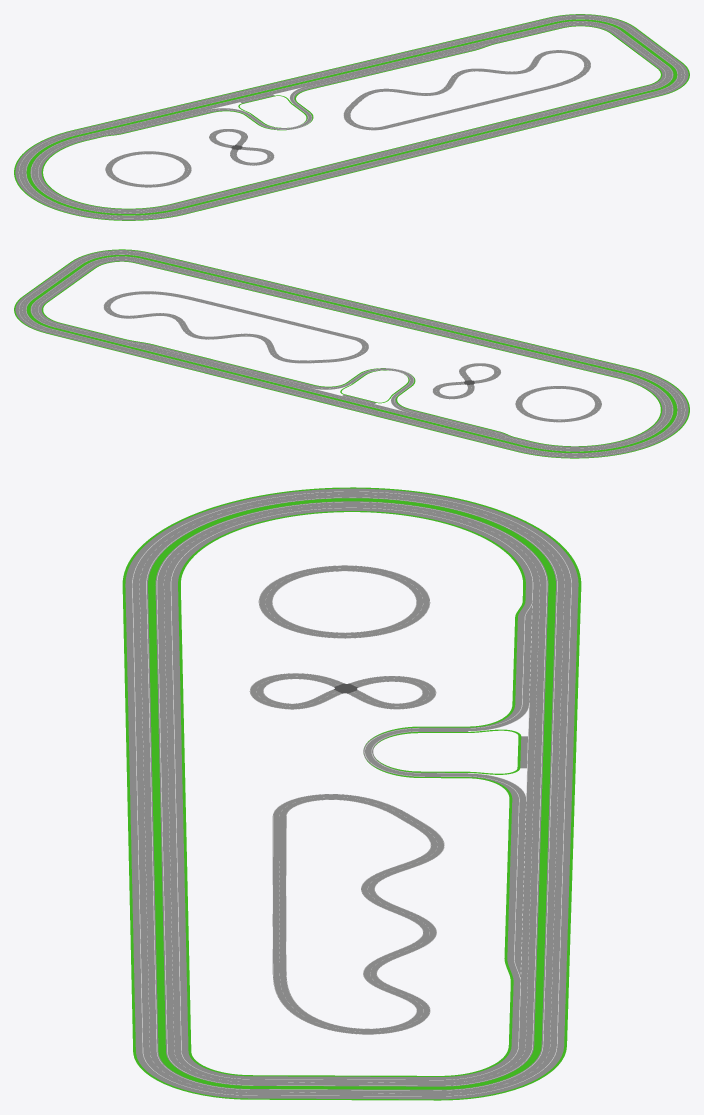
Rendered from HRI_custommap.fbx.
3 views of the same model, one above another, from view 1: azimuth 30°, elevation 25°; view 2: azimuth 150°, elevation 25°; view 3: azimuth 270°, elevation 25° (orthographic). The views are drawn at different scales.
Parts seen in each view (by area): view 1: road_straight_36, road_clothoid_37, road_straight_16, road_straight_8, road_straight_34, road_clothoid_33, road_straight_32, road_clothoid_35, road_clothoid_46, road_clothoid_39, road_clothoid_45, road_straight_10 (+2 smaller); view 2: road_straight_36, road_clothoid_37, road_straight_16, road_straight_8, road_straight_34, road_clothoid_33, road_straight_32, road_clothoid_35, road_clothoid_46, road_clothoid_39, road_clothoid_45, road_straight_15 (+2 smaller); view 3: road_straight_36, road_clothoid_37, road_straight_16, road_straight_8, road_straight_34, road_clothoid_33, road_straight_32, road_clothoid_35, road_clothoid_46, road_clothoid_39, road_clothoid_45, road_straight_10 (+7 smaller).
Boxes of the visible parts, x1,y1,x2,y2 form: road_straight_36: (172, 85, 661, 213); road_clothoid_37: (14, 130, 186, 220); road_straight_16: (294, 39, 472, 89); road_straight_8: (106, 101, 210, 134); road_straight_34: (610, 27, 681, 67); road_clothoid_33: (548, 14, 635, 33); road_straight_32: (483, 17, 561, 43); road_clothoid_35: (648, 62, 689, 95); road_clothoid_46: (383, 87, 545, 128); road_clothoid_39: (111, 151, 191, 187); road_clothoid_45: (543, 50, 590, 89); road_straight_10: (196, 93, 239, 109); road_straight_36: (135, 252, 630, 377); road_clothoid_37: (516, 367, 689, 458); road_straight_16: (136, 344, 313, 396); road_straight_8: (395, 409, 499, 443); road_straight_34: (23, 262, 95, 302); road_clothoid_33: (14, 296, 60, 333); road_straight_32: (46, 323, 125, 349); road_clothoid_35: (71, 249, 148, 268); road_clothoid_46: (192, 298, 355, 339); road_clothoid_39: (515, 386, 601, 418); road_clothoid_45: (103, 291, 195, 316); road_straight_15: (298, 388, 341, 404); road_straight_36: (122, 585, 191, 1051); road_clothoid_37: (122, 487, 581, 585); road_straight_16: (504, 799, 574, 958); road_straight_8: (512, 617, 580, 704); road_straight_34: (250, 1075, 439, 1100); road_clothoid_33: (439, 1046, 566, 1100); road_straight_32: (508, 982, 568, 1046); road_clothoid_35: (133, 1051, 251, 1099); road_clothoid_46: (272, 816, 286, 972); road_clothoid_39: (258, 565, 429, 638); road_clothoid_45: (272, 972, 430, 1034); road_straight_10: (528, 704, 577, 736).
Bounding box in the file's own units: 77260 × 0.1516 × 24433.
